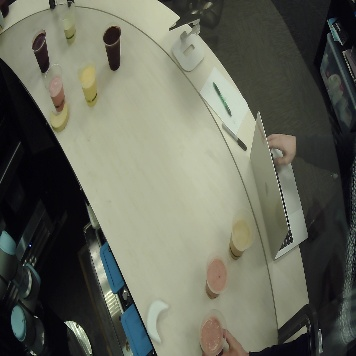full_cup: (196, 308, 226, 356), (43, 63, 70, 110), (75, 58, 102, 105), (99, 23, 126, 70), (229, 212, 256, 259), (203, 253, 230, 300), (25, 24, 52, 70), (54, 1, 81, 46)
puck: (143, 294, 173, 347), (46, 102, 75, 130)
